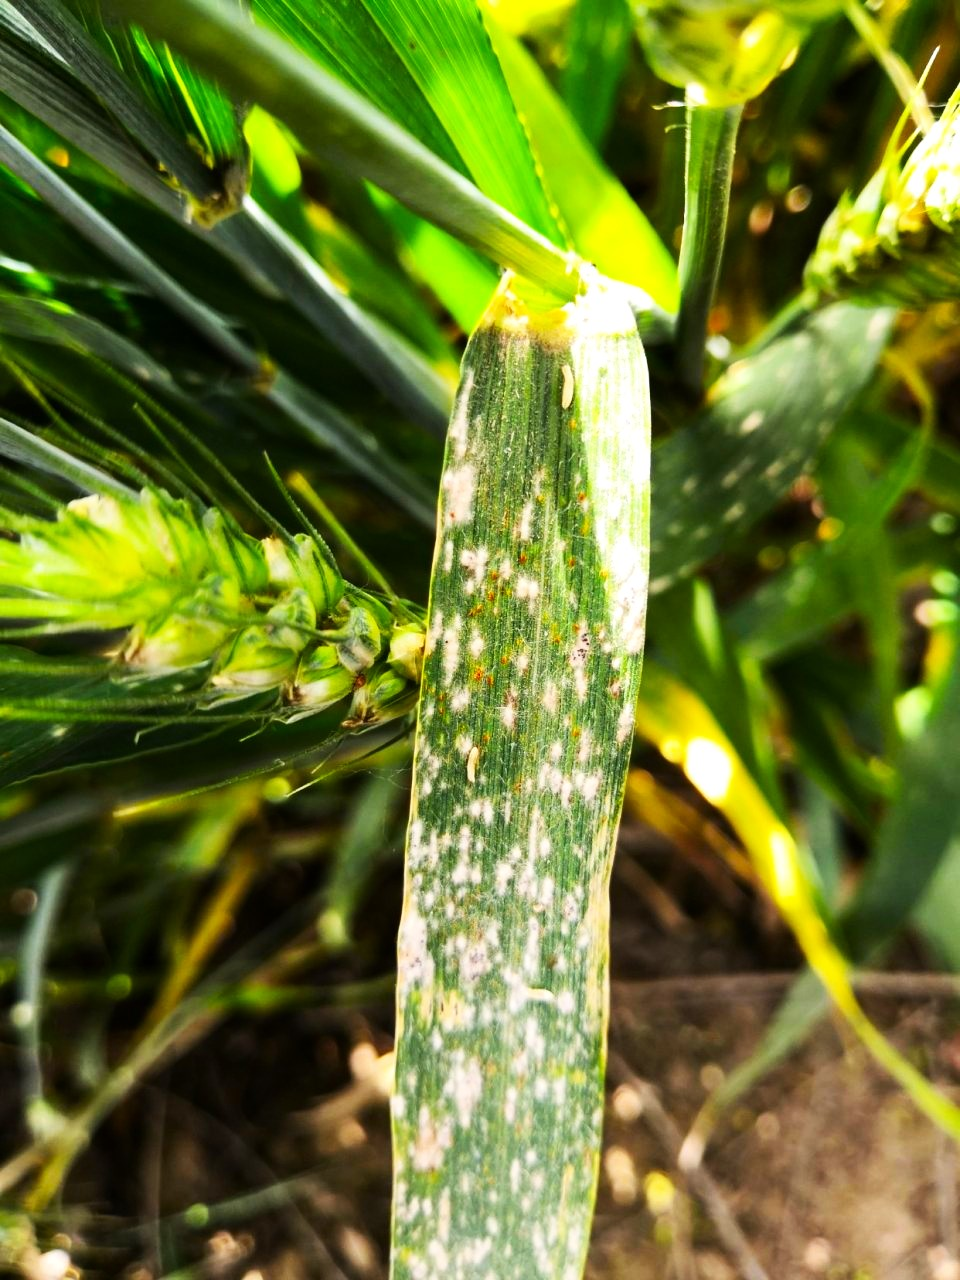Powdery Mildew: (405, 374, 656, 1218)
